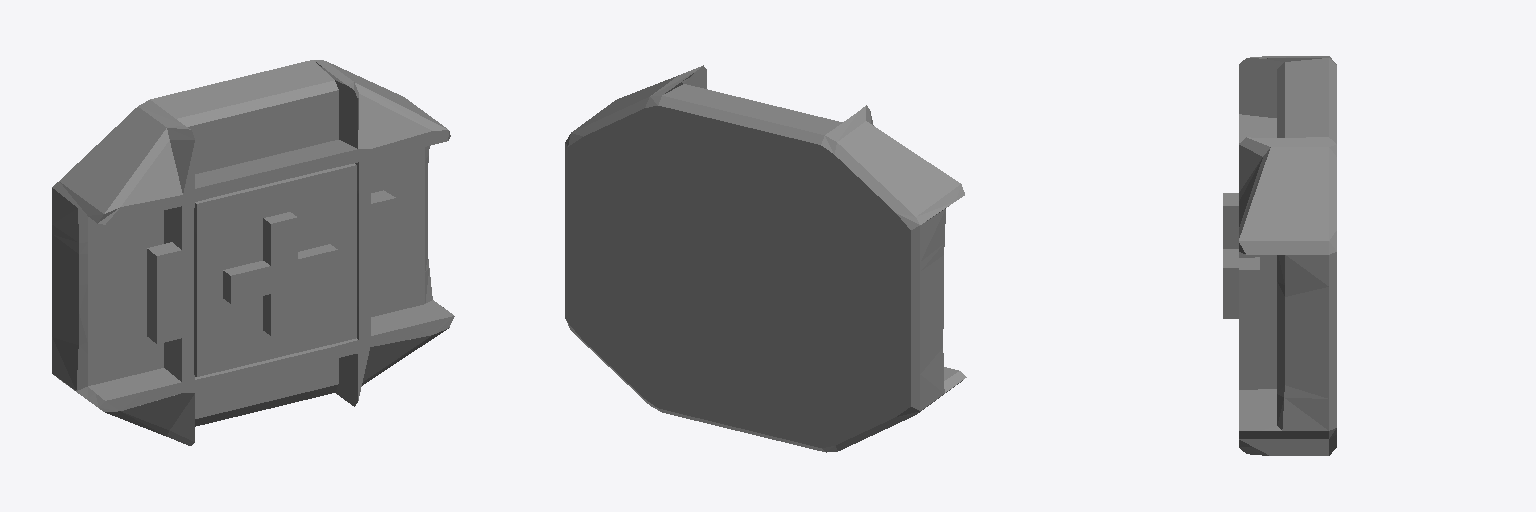
Rendered from FGHealthPickUp.obj.
3 renders of one model, left to right at view 1: azimuth 30°, elevation 25°; view 2: azimuth 150°, elevation 25°; view 3: azimuth 270°, elevation 25°, orthographic.
Visible parts, largest first — view 1: MedKit; view 2: MedKit; view 3: MedKit.
Part boxes in pixels (x1,y1,x2,y2): MedKit: (52,60,454,445); MedKit: (565,65,966,452); MedKit: (1223,56,1336,455).
Bounding box in the file's own units: 53.13 × 45.18 × 14.68.